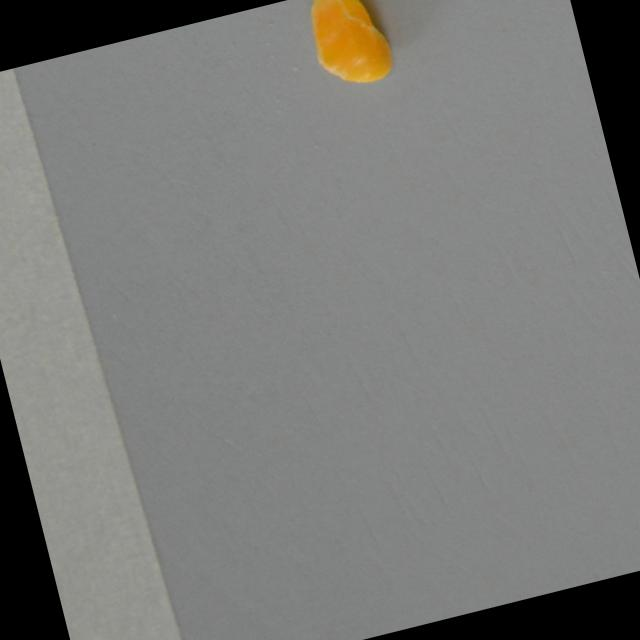pelicula: (302, 0, 397, 91)
